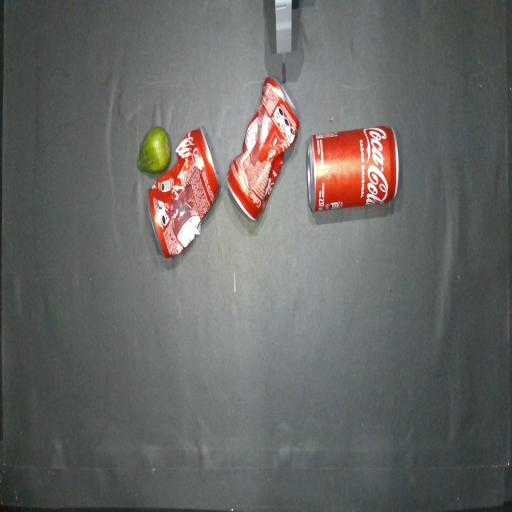higo: (137, 127, 170, 174)
lata: (307, 126, 398, 211)
lata_defectuoso: (227, 77, 299, 220), (149, 128, 220, 258)
